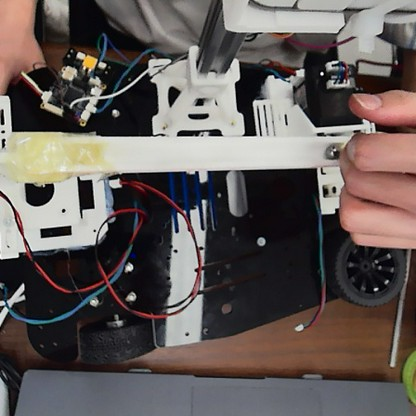ironball: (325, 143, 339, 160)
